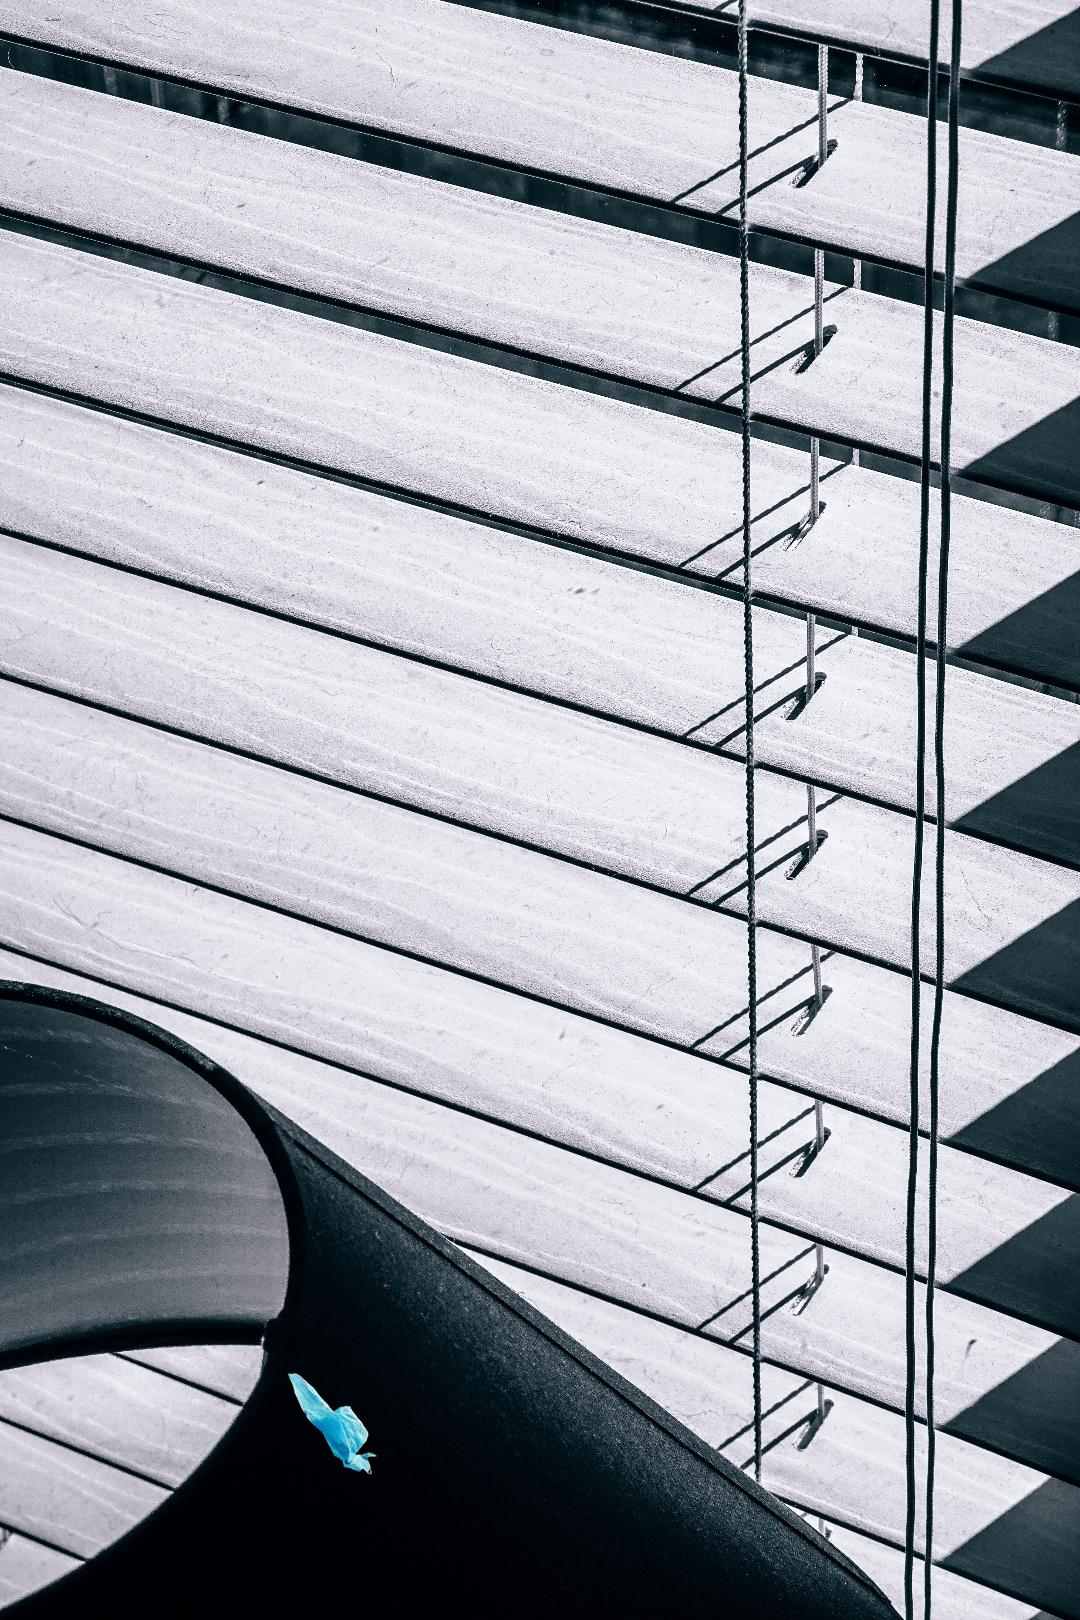plastic-bag: (284, 1370, 381, 1478)
